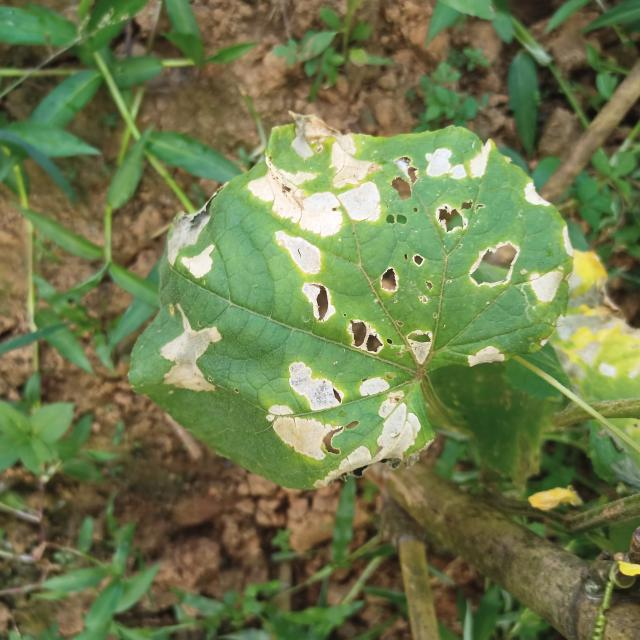disease_cucumber: (149, 124, 564, 500)
